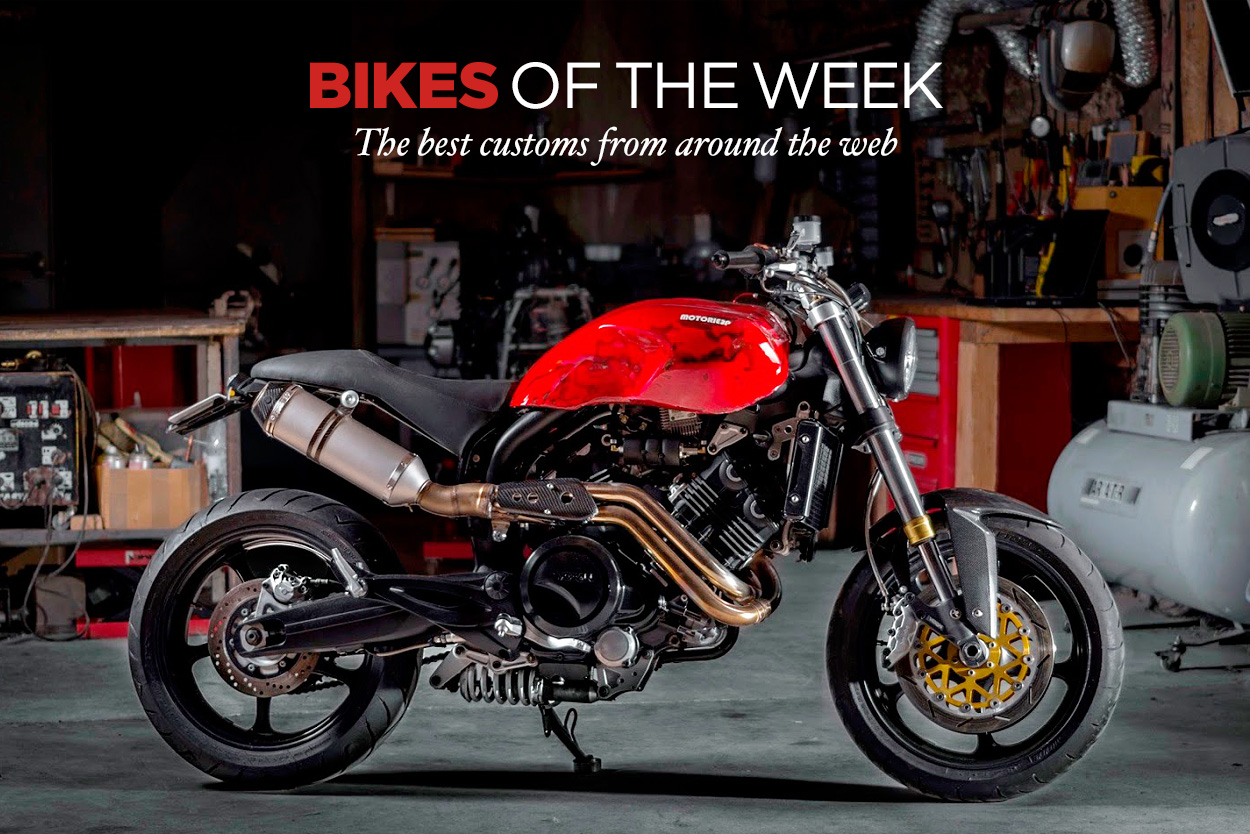motorbike: (129, 222, 1159, 803)
